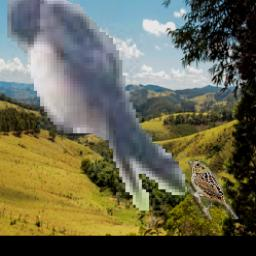Sparrow: (187, 159, 239, 220)
Swallow: (8, 0, 188, 213)
